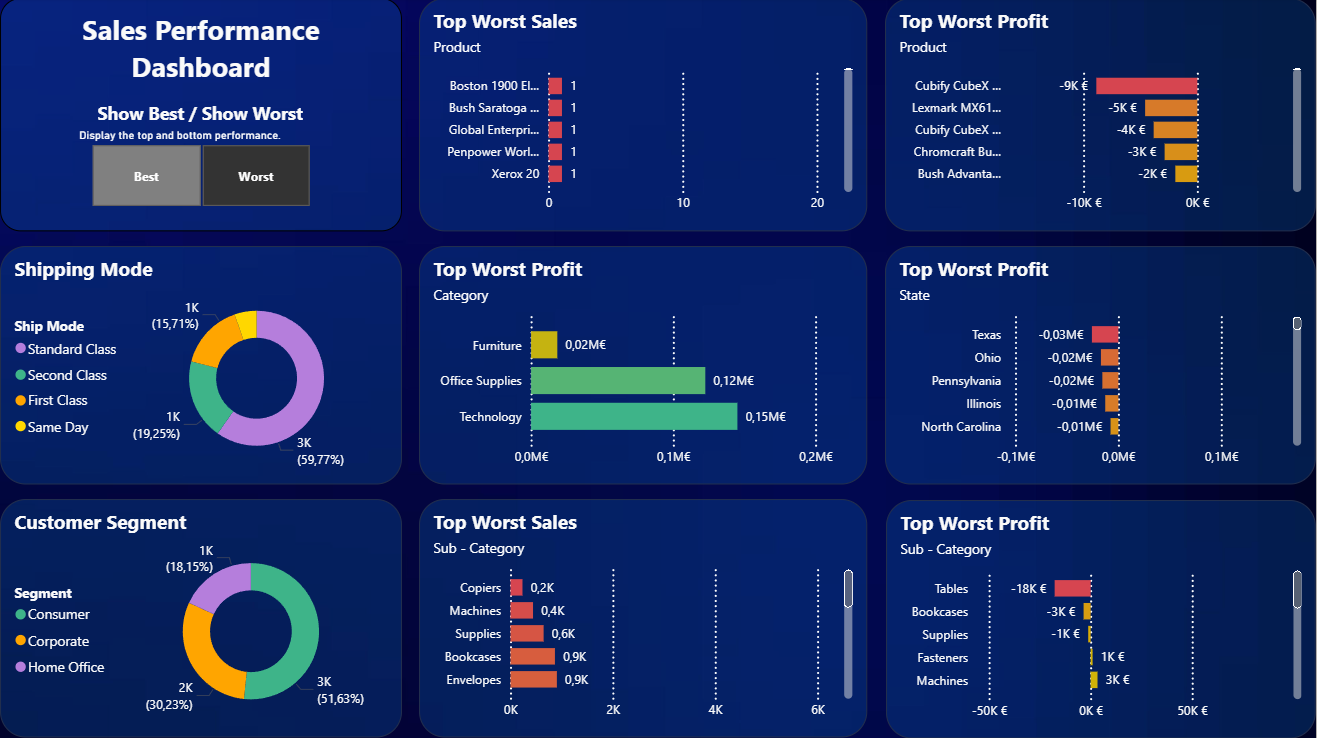

What the dashboard file says about the page in this screenshot:
{"tool":"powerbi","page":{"name":"Performance","canvas":[1280,720],"ordinal":2},"visuals":[{"type":"barChart","fields":{"Category":["Product.Product Name"],"Y":["Mesure.Quantity"]},"box":[407.8,0,435.6,226.7],"z":0},{"type":"textbox","title":"Retail Performance Dashboard","box":[0,0,391.1,226.7],"z":1000},{"type":"barChart","fields":{"Y":["Mesure.Profit"],"Category":["Product.Product Name"]},"box":[861.1,0,418.9,226.7],"z":2000},{"type":"slicer","title":"Show Best / Show Worst","fields":{"Values":["sortTable.sort"]},"box":[64.4,98.9,261.1,110],"z":3000},{"type":"barChart","fields":{"Y":["Mesure.Quantity"],"Category":["Product.Sub-Category"]},"box":[407.8,487.8,435.6,232.2],"z":4000},{"type":"barChart","fields":{"Y":["Mesure.Profit"],"Category":["Product.Sub-Category"]},"box":[861.7,488.3,418.3,231.7],"z":6000},{"type":"barChart","fields":{"Y":["Mesure.Profit"],"Category":["Product.Category"]},"box":[407.8,241.1,435.6,232.2],"z":7000},{"type":"barChart","fields":{"Y":["Mesure.Profit"],"Category":["City.State"]},"box":[861.1,241.1,418.9,232.2],"z":8000},{"type":"donutChart","title":"Customer Segment","fields":{"Category":["Segment.Segment"],"Y":["Mesure.NumberOrder"]},"box":[0,487.8,391.1,232.2],"z":9000},{"type":"donutChart","title":"Shipping Mode","fields":{"Category":["Ship.Ship Mode"],"Y":["Mesure.NumberOrder"]},"box":[0,241.1,391.1,232.2],"z":10000}]}

Visuals, with their boxes in screenshot pixels (x1, y1, x2, y2), scaled from the page's 1280x720 canvas onto the 1317x738 screenshot:
barChart - Product.Product Name x Mesure.Quantity: x1=420 y1=0 x2=868 y2=232
"Retail Performance Dashboard" textbox: x1=0 y1=0 x2=402 y2=232
barChart - Mesure.Profit x Product.Product Name: x1=886 y1=0 x2=1316 y2=232
"Show Best / Show Worst" slicer: x1=66 y1=101 x2=335 y2=214
barChart - Mesure.Quantity x Product.Sub-Category: x1=420 y1=500 x2=868 y2=737
barChart - Mesure.Profit x Product.Sub-Category: x1=887 y1=501 x2=1316 y2=737
barChart - Mesure.Profit x Product.Category: x1=420 y1=247 x2=868 y2=485
barChart - Mesure.Profit x City.State: x1=886 y1=247 x2=1316 y2=485
"Customer Segment" donutChart: x1=0 y1=500 x2=402 y2=737
"Shipping Mode" donutChart: x1=0 y1=247 x2=402 y2=485
